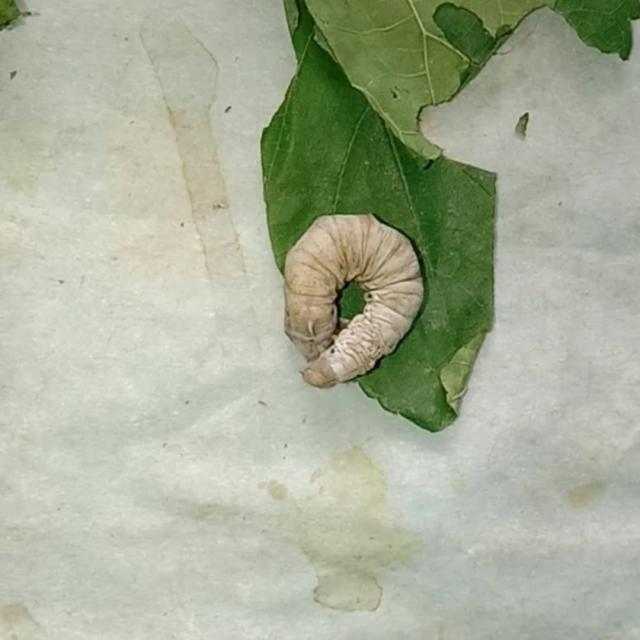Grasserie: (254, 181, 431, 410)
